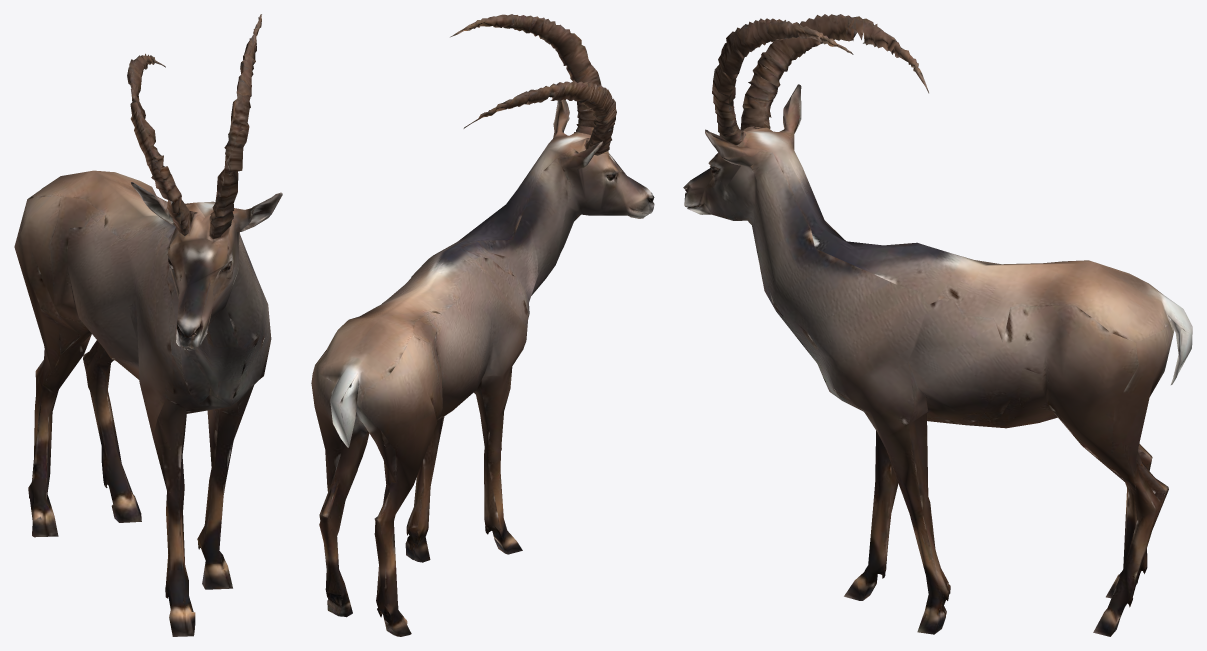
The model's file is bouquetin_higgsfield.glb.
3 renders of one model, left to right at view 1: azimuth 30°, elevation 25°; view 2: azimuth 150°, elevation 25°; view 3: azimuth 270°, elevation 25°, orthographic. The views are drawn at different scales.
Size of the model in its own units: 0.3047 by 0.9536 by 0.7441.
1 material, 1 textured.
